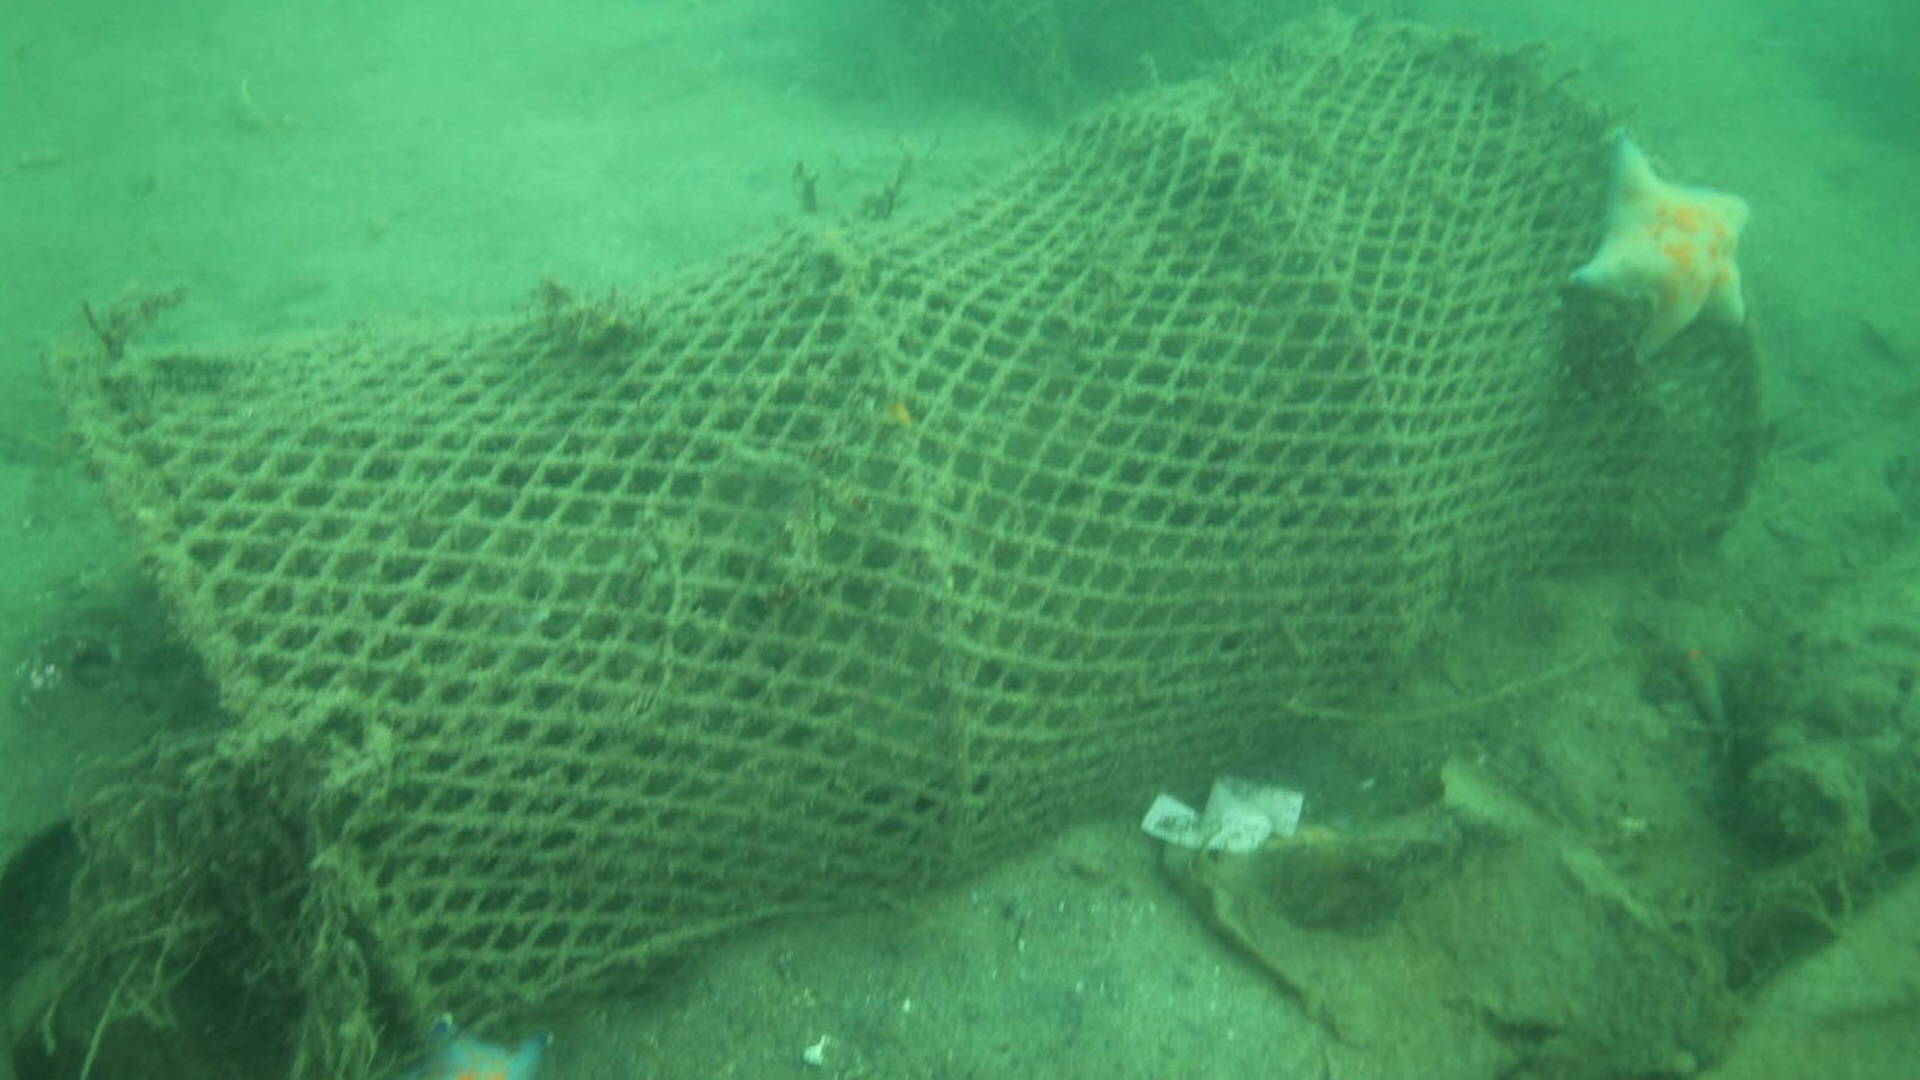spring fish trap: (62, 16, 1766, 1043)
